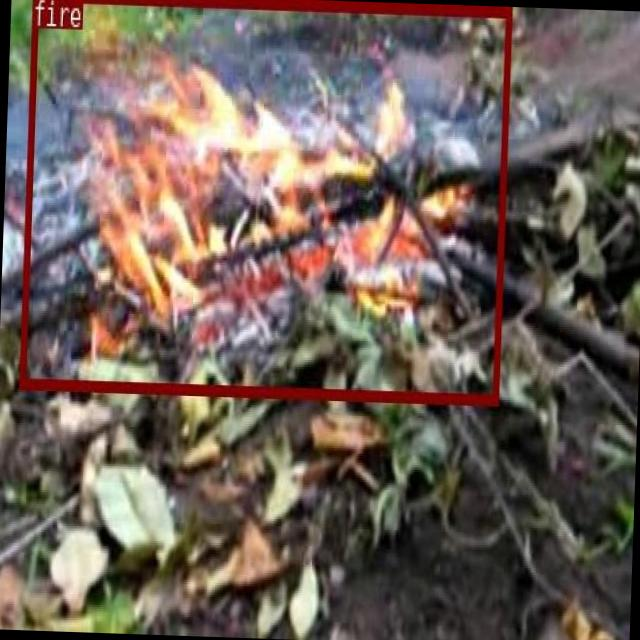fire: (18, 0, 511, 404)
